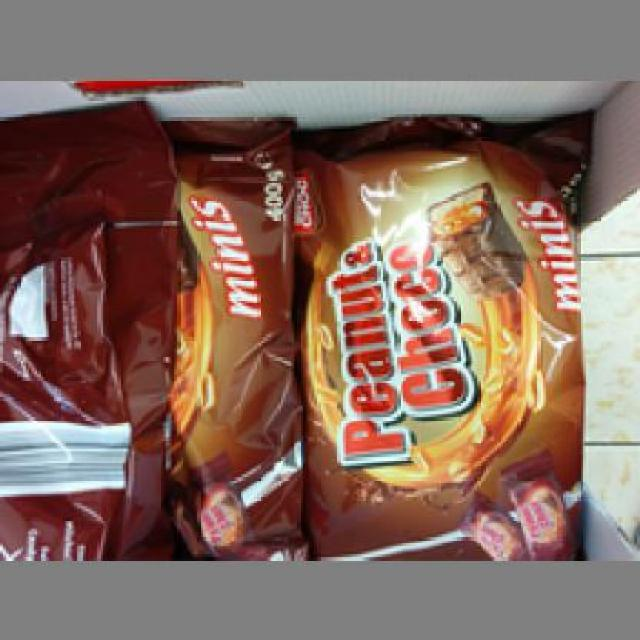Chocolate bar: (296, 120, 590, 557), (134, 109, 303, 557)
